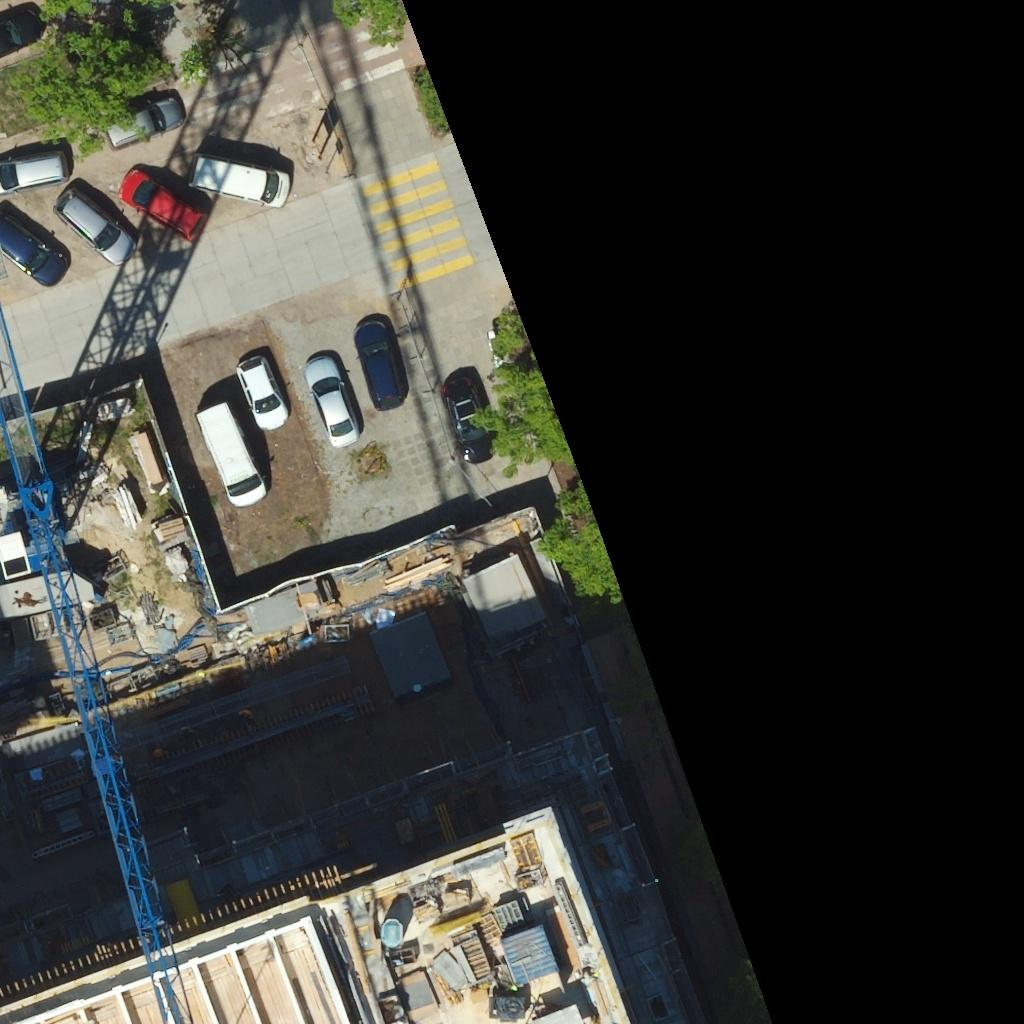samochod_osobowy: (197, 402, 266, 507), (55, 186, 135, 265), (120, 169, 204, 240), (0, 204, 69, 286), (189, 153, 289, 207), (354, 314, 408, 411), (305, 355, 359, 447), (442, 370, 492, 463), (108, 95, 184, 147), (236, 355, 288, 431), (0, 151, 68, 195), (0, 4, 43, 57)
zuraw_wiezowy: (0, 307, 190, 1023)
